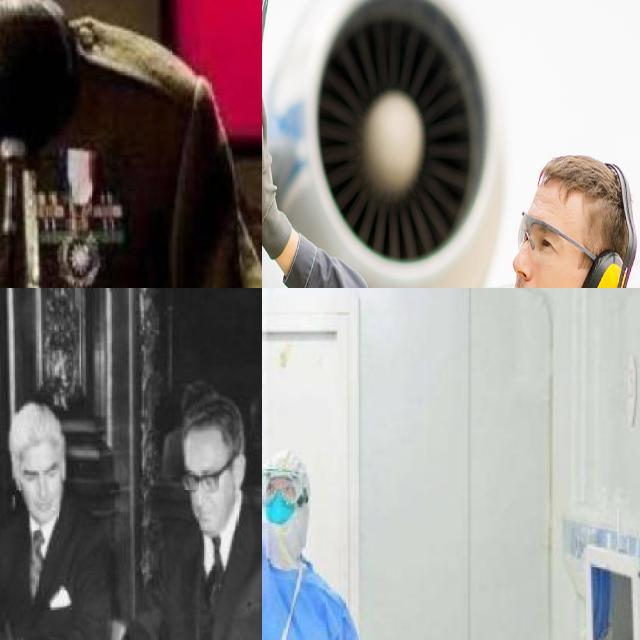Ear-protection: (577, 246, 625, 288)
face_mask: (265, 478, 300, 531)
face_nomask: (9, 455, 73, 537), (184, 448, 233, 535)
glasses: (514, 210, 586, 264), (262, 466, 312, 510), (181, 470, 226, 499)
hand_glove: (262, 81, 299, 261)
head_nohelmet: (3, 383, 70, 452), (162, 401, 248, 449), (262, 449, 311, 487)
person: (262, 70, 640, 288), (0, 0, 187, 288), (262, 387, 397, 640), (0, 389, 127, 640), (134, 395, 262, 640)
